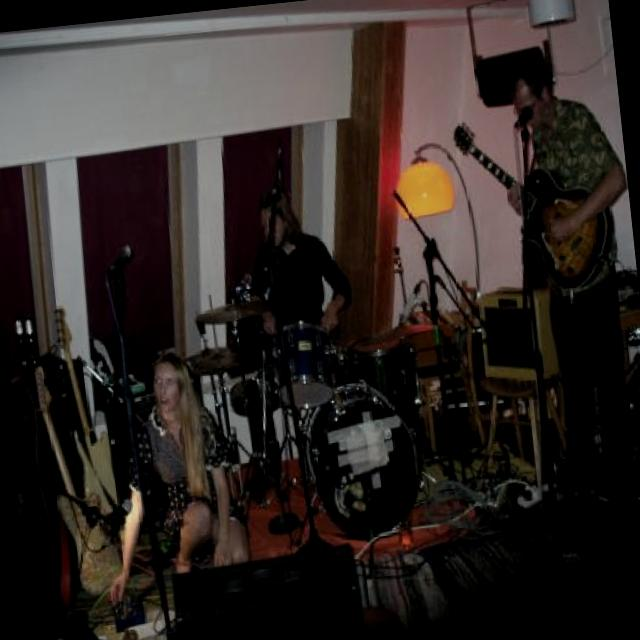Person: (491, 39, 640, 549), (218, 180, 371, 498), (87, 348, 256, 608)
